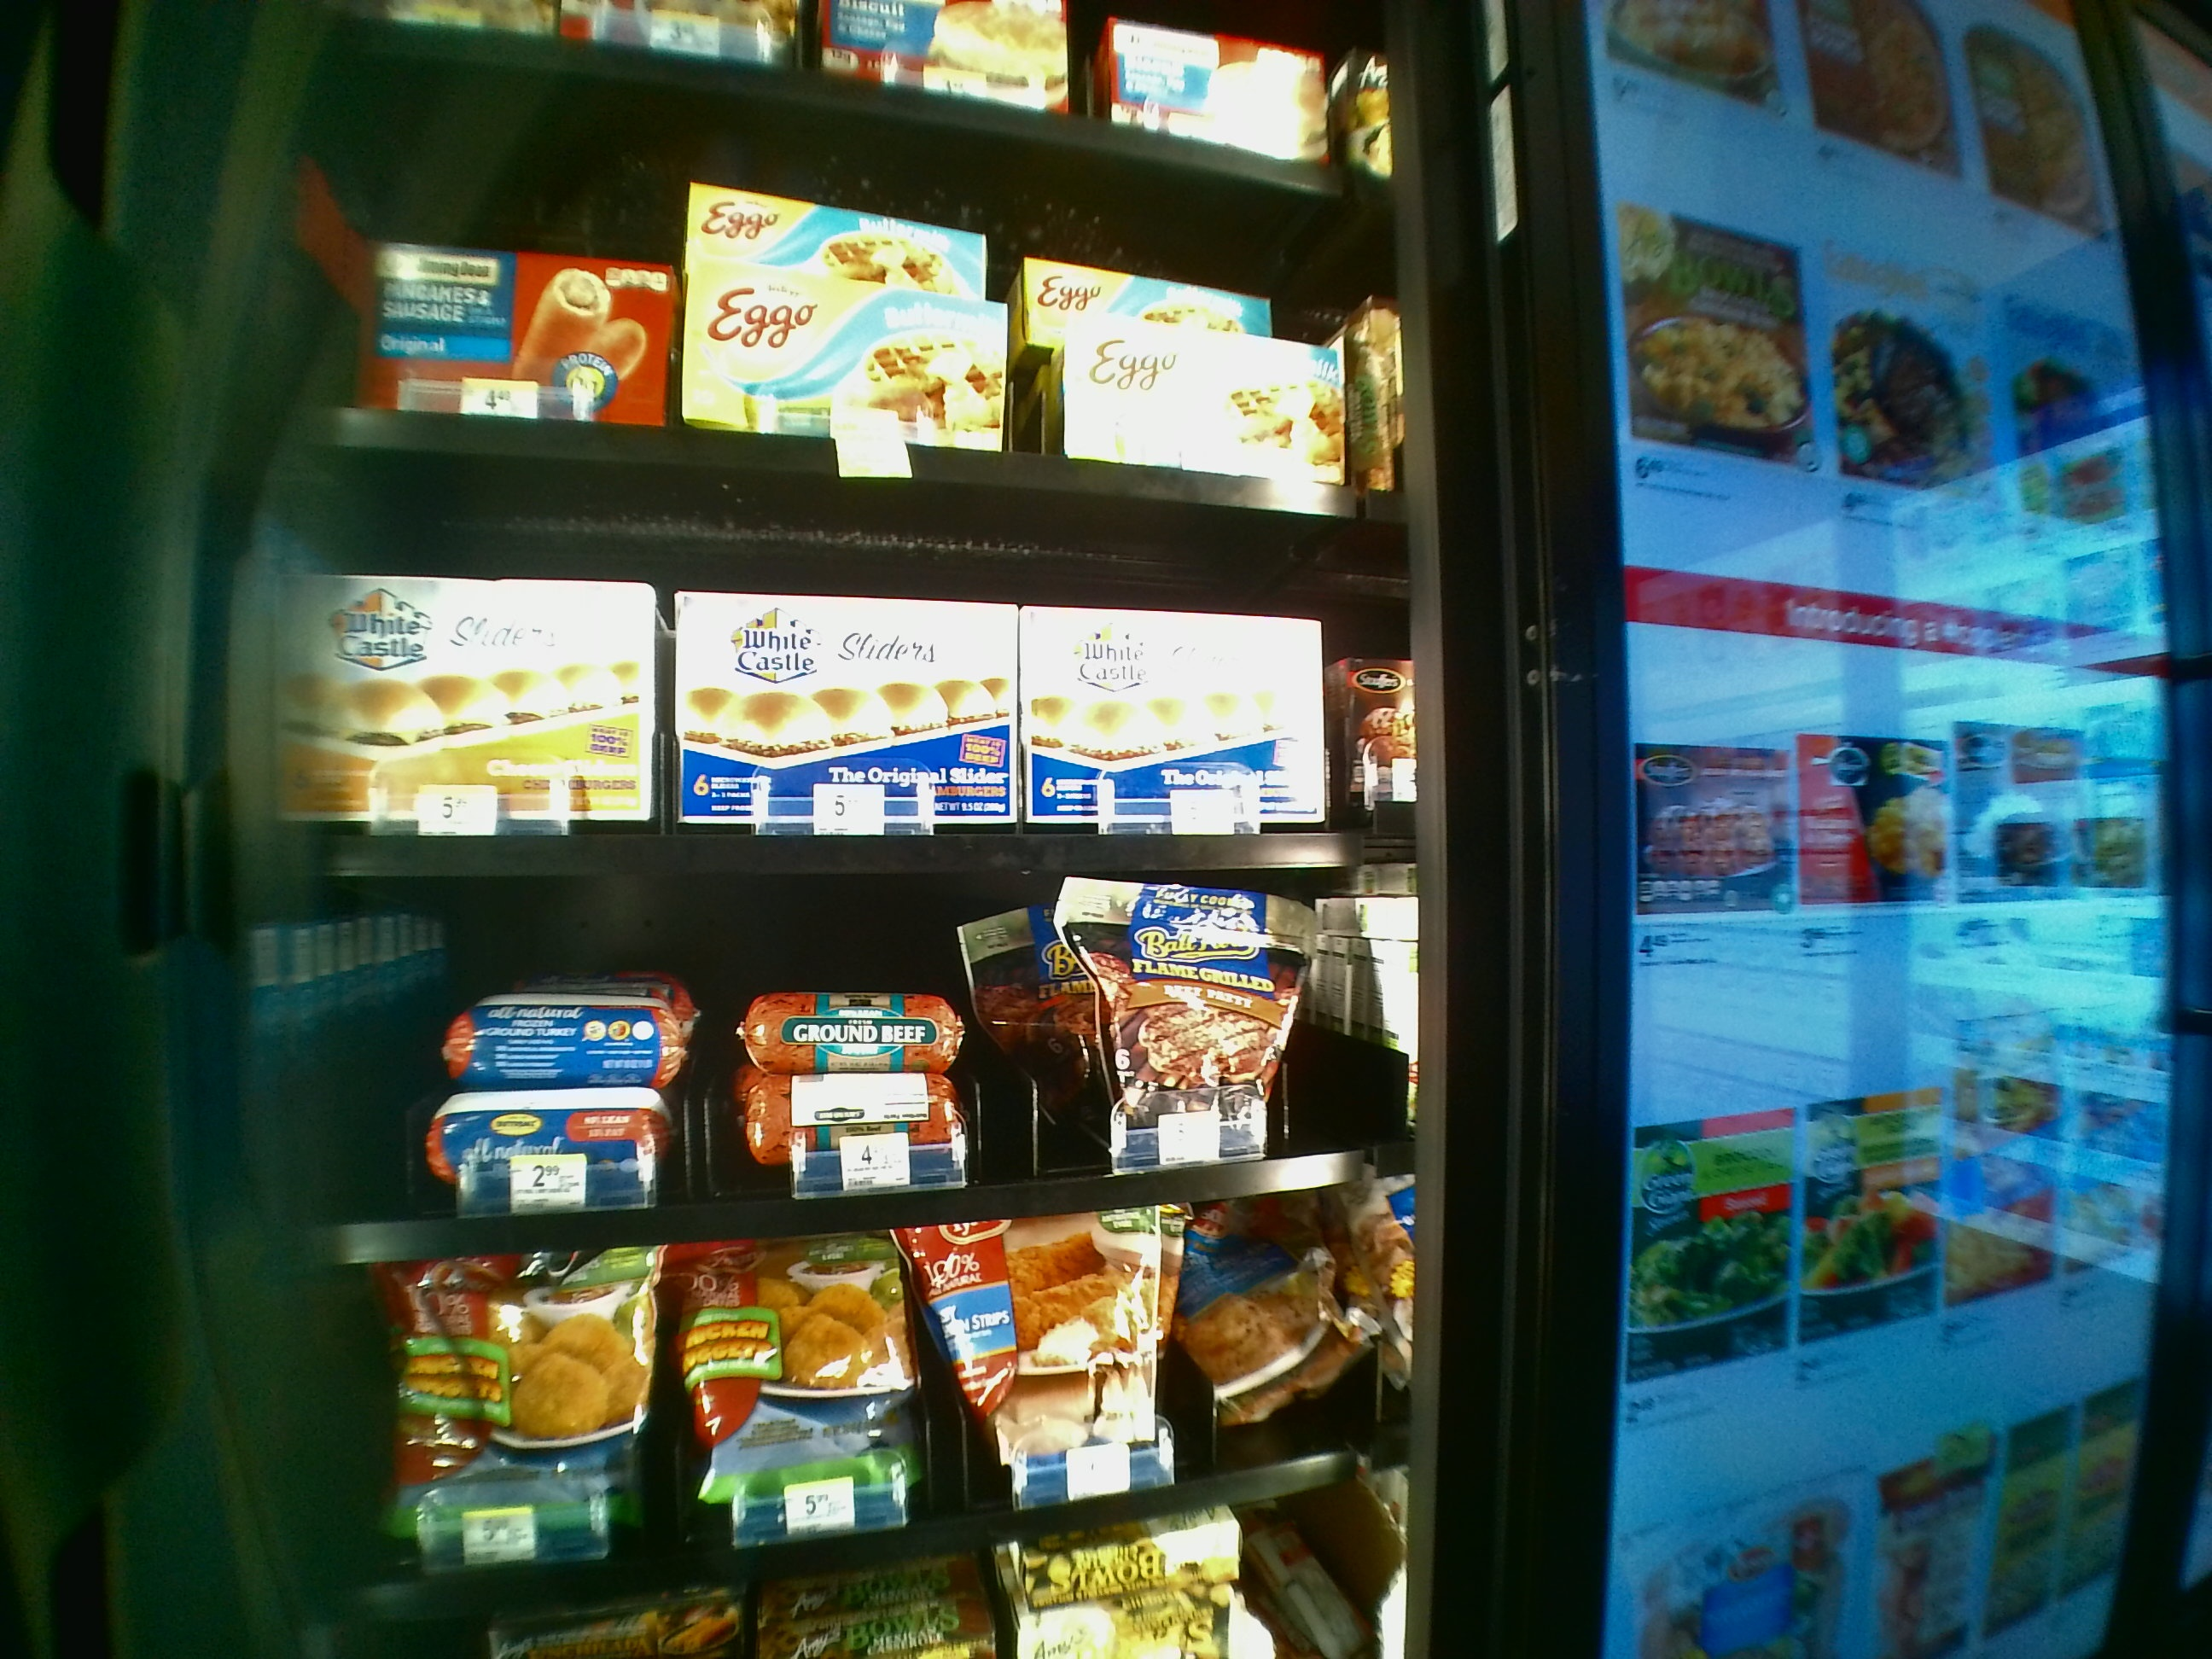shelf: (263, 453, 1407, 884), (254, 899, 1407, 1291)
